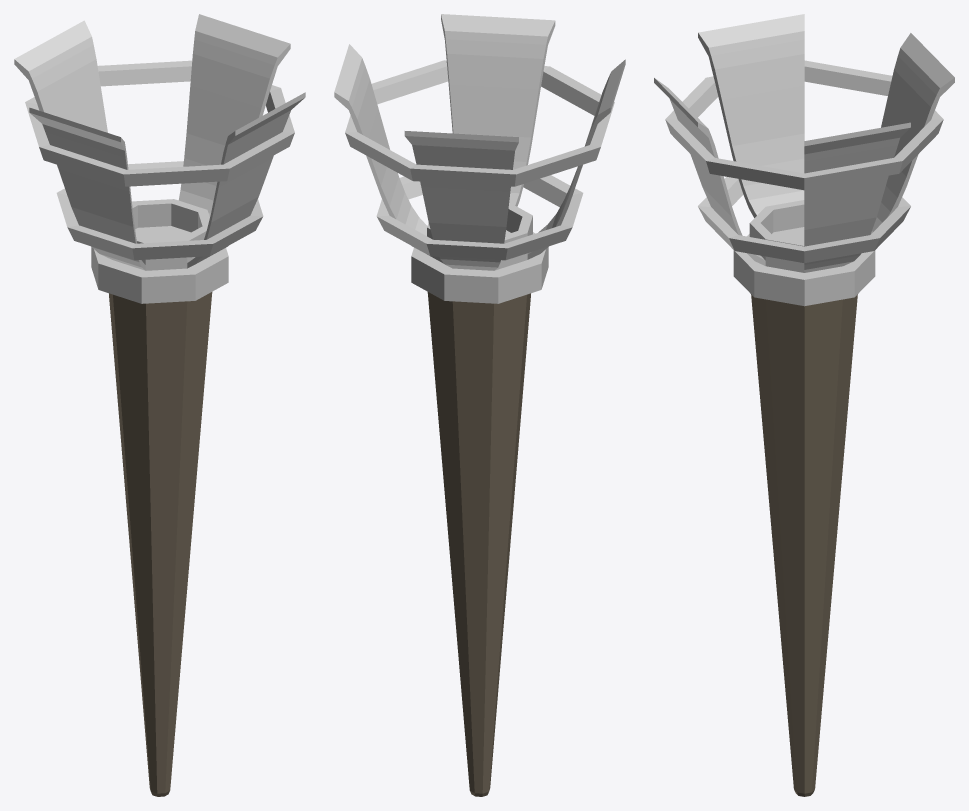
Rendered from Torch_Final.fbx.
3 views of the same model, side by side, from view 1: azimuth 30°, elevation 25°; view 2: azimuth 150°, elevation 25°; view 3: azimuth 270°, elevation 25° (orthographic).
Visible parts, largest first — view 1: Torch_low; view 2: Torch_low; view 3: Torch_low.
Part boxes in pixels (x1,y1,x2,y2): Torch_low: (14, 14, 305, 796); Torch_low: (334, 14, 625, 796); Torch_low: (654, 14, 954, 796).
Size of the model in its own units: 4.24 by 11.18 by 4.24.
